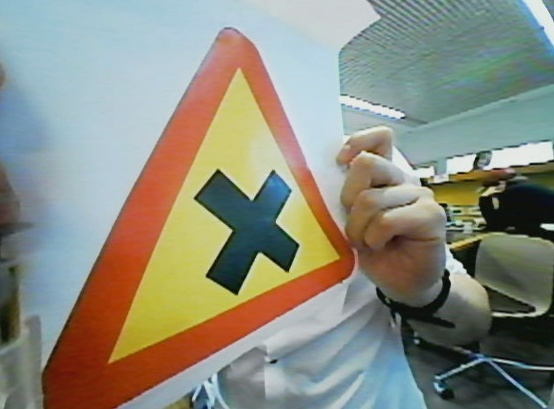junction: (39, 28, 368, 409)
